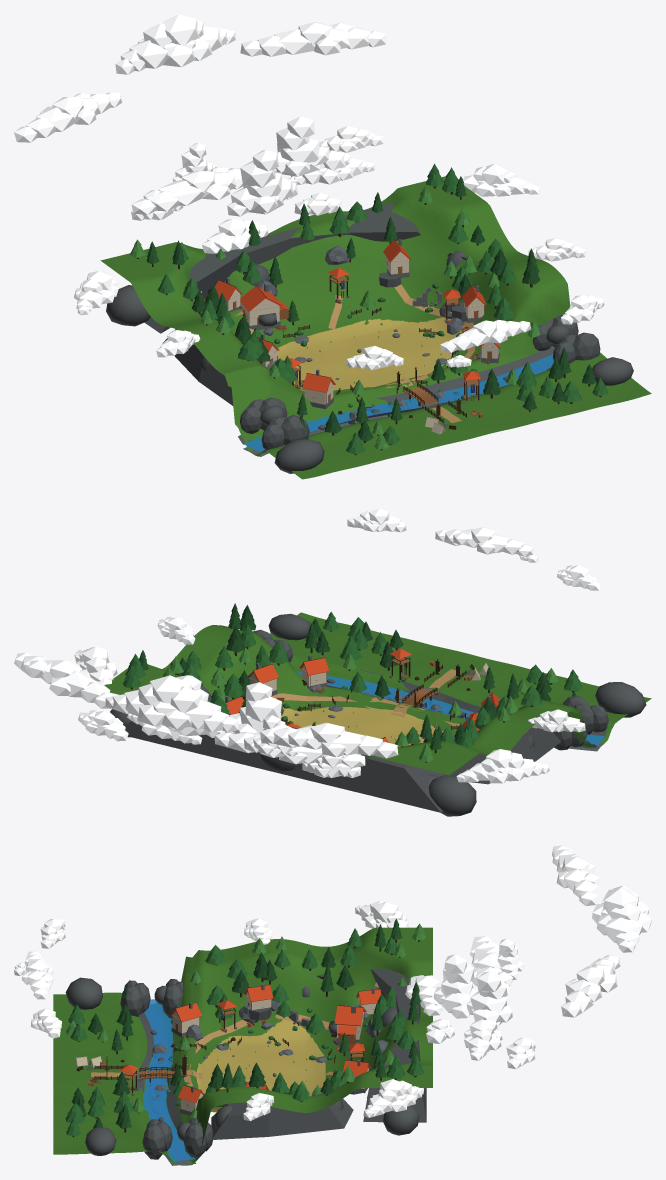
File: arenas.glb
The picture shows the model from 3 angles, top to bottom: view 1: azimuth 30°, elevation 25°; view 2: azimuth 150°, elevation 25°; view 3: azimuth 270°, elevation 25°; orthographic projection. The views are drawn at different scales.
Parts seen in each view (by area): view 1: Terrain_Main, Terrain_Arena, Cliff_North, Cloud_Distant_NorthCenter, Cloud_Distant_NorthEast, Cloud_Center_Hero_Tower, Cloud_Center_High_Billow, Cloud_Distant_NorthWest, Cloud_Upper_Tower_East, Water_Surface, Cloud_East_Grand_Cliff, Cloud_South_Billow_Center (+18 smaller); view 2: Terrain_Main, Cliff_North, Cloud_Distant_NorthCenter, Terrain_Arena, Cloud_Distant_NorthWest, Cloud_Distant_NorthEast, Cloud_West_Grand_Ocean, Cloud_South_Billow_Center, Cloud_Center_Hero_Tower, Boundary_Rock_NW, Cloud_Center_High_Billow, Boundary_Rock_SW (+18 smaller); view 3: Terrain_Main, Terrain_Arena, Cliff_East, Water_Surface, Cloud_Distant_NorthCenter, Cloud_Distant_NorthEast, Cliff_North, Cloud_Center_Hero_Tower, Cloud_Distant_NorthWest, Cloud_Upper_Tower_East, Cloud_East_Grand_Cliff, Cloud_Center_High_Billow (+24 smaller).
Part boxes in pixels (left/top/right/bottom): Terrain_Main: left=100, top=176, right=651, bottom=479; Terrain_Arena: left=277, top=317, right=465, bottom=390; Cliff_North: left=144, top=202, right=420, bottom=333; Cloud_Distant_NorthCenter: left=115, top=14, right=235, bottom=74; Cloud_Distant_NorthEast: left=240, top=22, right=386, bottom=56; Cloud_Center_Hero_Tower: left=227, top=150, right=297, bottom=216; Cloud_Center_High_Billow: left=131, top=167, right=243, bottom=214; Cloud_Distant_NorthWest: left=14, top=92, right=122, bottom=142; Cloud_Upper_Tower_East: left=275, top=116, right=329, bottom=176; Water_Surface: left=243, top=354, right=553, bottom=451; Cloud_East_Grand_Cliff: left=458, top=163, right=540, bottom=196; Cloud_South_Billow_Center: left=440, top=320, right=530, bottom=352; Terrain_Main: left=104, top=612, right=651, bottom=775; Cliff_North: left=124, top=713, right=444, bottom=812; Cloud_Distant_NorthCenter: left=105, top=675, right=238, bottom=732; Terrain_Arena: left=280, top=706, right=443, bottom=746; Cloud_Distant_NorthWest: left=260, top=722, right=398, bottom=758; Cloud_Distant_NorthEast: left=14, top=653, right=114, bottom=708; Cloud_West_Grand_Ocean: left=456, top=749, right=549, bottom=783; Cloud_South_Billow_Center: left=435, top=527, right=533, bottom=556; Cloud_Center_Hero_Tower: left=225, top=682, right=291, bottom=733; Boundary_Rock_NW: left=428, top=775, right=476, bottom=816; Cloud_Center_High_Billow: left=214, top=732, right=365, bottom=768; Boundary_Rock_SW: left=595, top=682, right=646, bottom=717; Terrain_Main: left=53, top=927, right=432, bottom=1165; Terrain_Arena: left=196, top=1019, right=325, bottom=1112; Cliff_East: left=211, top=1089, right=353, bottom=1139; Water_Surface: left=143, top=999, right=194, bottom=1161; Cloud_Distant_NorthCenter: left=592, top=885, right=651, bottom=952; Cloud_Distant_NorthEast: left=561, top=955, right=620, bottom=1017; Cliff_North: left=363, top=968, right=426, bottom=1122; Cloud_Center_Hero_Tower: left=433, top=954, right=477, bottom=1018; Cloud_Distant_NorthWest: left=552, top=845, right=599, bottom=905; Cloud_Upper_Tower_East: left=466, top=971, right=512, bottom=1030; Cloud_East_Grand_Cliff: left=363, top=1079, right=423, bottom=1117; Cloud_Center_High_Billow: left=470, top=936, right=513, bottom=999.
Size of the model in its own units: 160 by 71.54 by 202.
